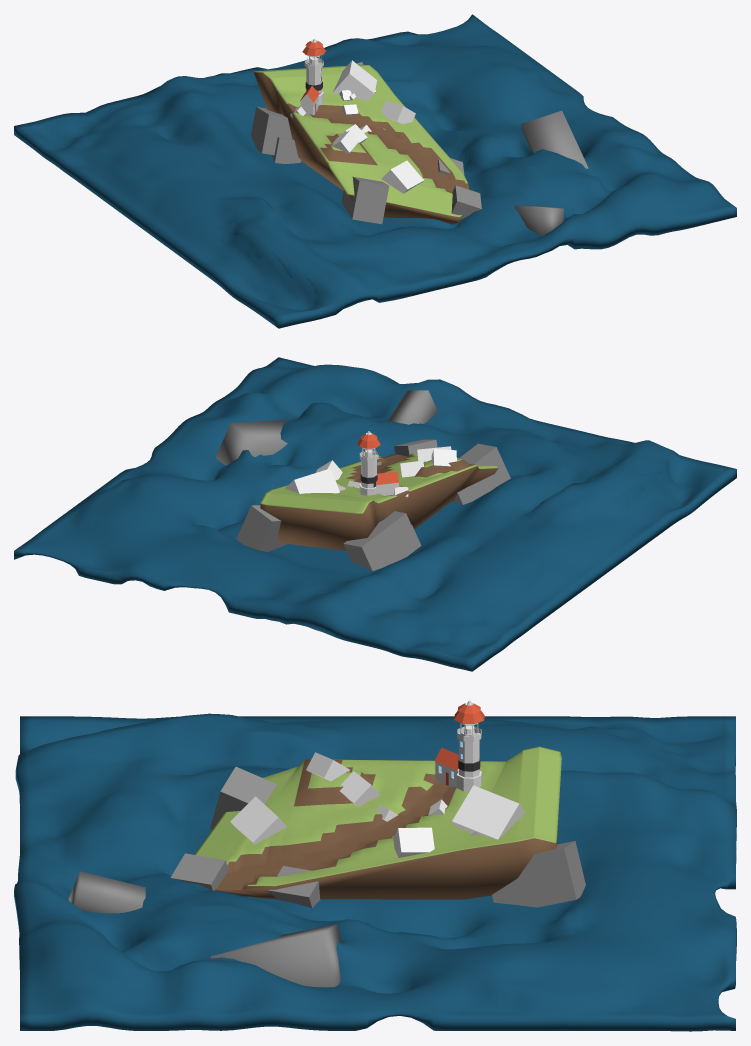
File: 20_LightHouse.glb
3 renders of one model, top to bottom at view 1: azimuth 30°, elevation 25°; view 2: azimuth 150°, elevation 25°; view 3: azimuth 270°, elevation 25°, orthographic. The views are drawn at different scales.
Visible parts, largest first — view 1: Plane, Cube, Cube.019, Cube.017, Cube.016, Cylinder, Cube.020, Cube.007, Cube.005, Cube.013, Cube.018, Cube.006; view 2: Plane, Cube, Cube.016, Cube.019, Cube.017, Cylinder, Cube.015, Cube.020, Cube.007; view 3: Plane, Cube, Cube.019, Cube.015, Cylinder, Cube.007, Cube.020, Cube.017, Cube.005, Cube.013, Cube.014, Cube.006 (+2 smaller).
Boxes of the visible parts, bbox=[...] form: Plane: bbox=[14, 14, 736, 328]; Cube: bbox=[253, 64, 469, 224]; Cube.019: bbox=[521, 110, 588, 168]; Cube.017: bbox=[341, 176, 389, 224]; Cube.016: bbox=[251, 107, 292, 155]; Cylinder: bbox=[300, 38, 325, 115]; Cube.020: bbox=[515, 205, 563, 235]; Cube.007: bbox=[333, 60, 377, 100]; Cube.005: bbox=[381, 160, 423, 193]; Cube.013: bbox=[451, 185, 481, 218]; Cube.018: bbox=[271, 137, 300, 163]; Cube.006: bbox=[381, 101, 415, 124]; Plane: bbox=[14, 357, 736, 671]; Cube: bbox=[260, 453, 498, 550]; Cube.016: bbox=[343, 511, 420, 571]; Cube.019: bbox=[215, 420, 287, 465]; Cube.017: bbox=[454, 443, 510, 504]; Cylinder: bbox=[357, 431, 398, 495]; Cube.015: bbox=[236, 505, 287, 552]; Cube.020: bbox=[388, 390, 437, 424]; Cube.007: bbox=[285, 468, 339, 493]; Plane: bbox=[14, 713, 736, 1031]; Cube: bbox=[194, 746, 561, 899]; Cube.019: bbox=[210, 924, 341, 987]; Cube.015: bbox=[492, 841, 585, 907]; Cylinder: bbox=[434, 700, 484, 791]; Cube.007: bbox=[452, 785, 524, 839]; Cube.020: bbox=[68, 871, 145, 913]; Cube.017: bbox=[210, 766, 276, 829]; Cube.005: bbox=[230, 796, 286, 844]; Cube.013: bbox=[170, 853, 228, 890]; Cube.014: bbox=[268, 866, 320, 907]; Cube.006: bbox=[393, 827, 434, 857].
Size of the model in its own units: 37.17 by 12.16 by 37.44.
Materials: 2 (1 with a texture image).
